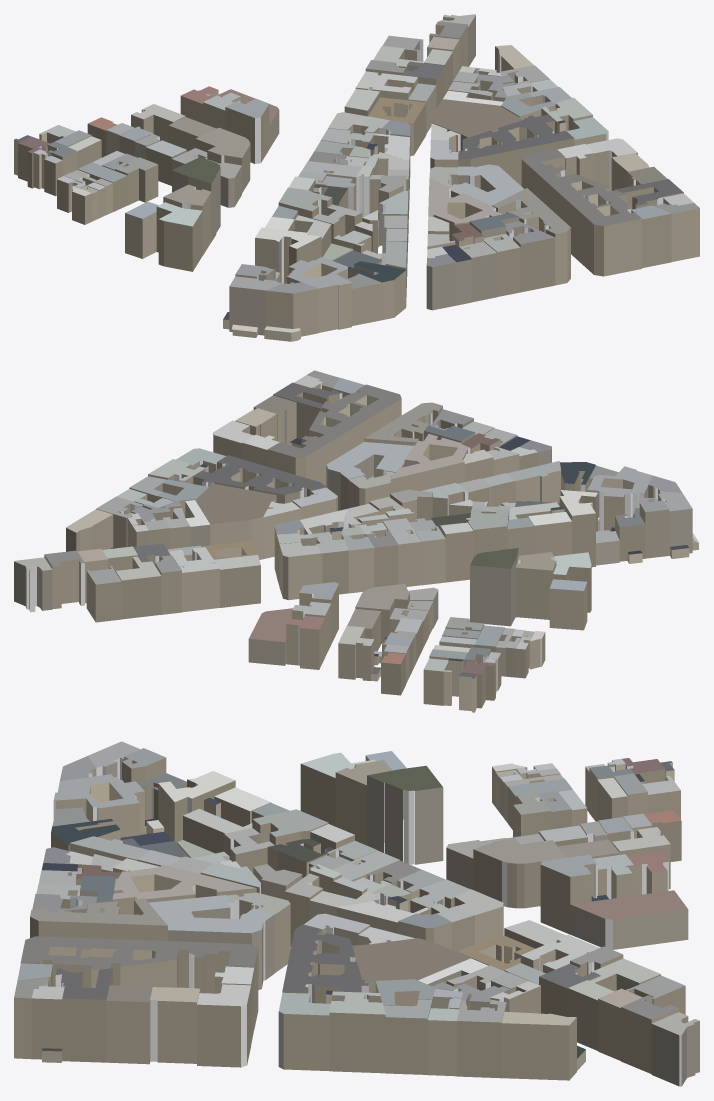
The picture shows the model from 3 angles, top to bottom: view 1: azimuth 30°, elevation 25°; view 2: azimuth 150°, elevation 25°; view 3: azimuth 270°, elevation 25°; orthographic projection. The views are drawn at different scales.
Visible parts, largest first — view 1: tuile; view 2: tuile; view 3: tuile.
Part boxes in pixels (left/top/right/bottom): tuile: left=14, top=14, right=699, bottom=341; tuile: left=14, top=370, right=699, bottom=712; tuile: left=14, top=741, right=699, bottom=1086.
Bounding box in the file's own units: 260 × 31.98 × 261.
